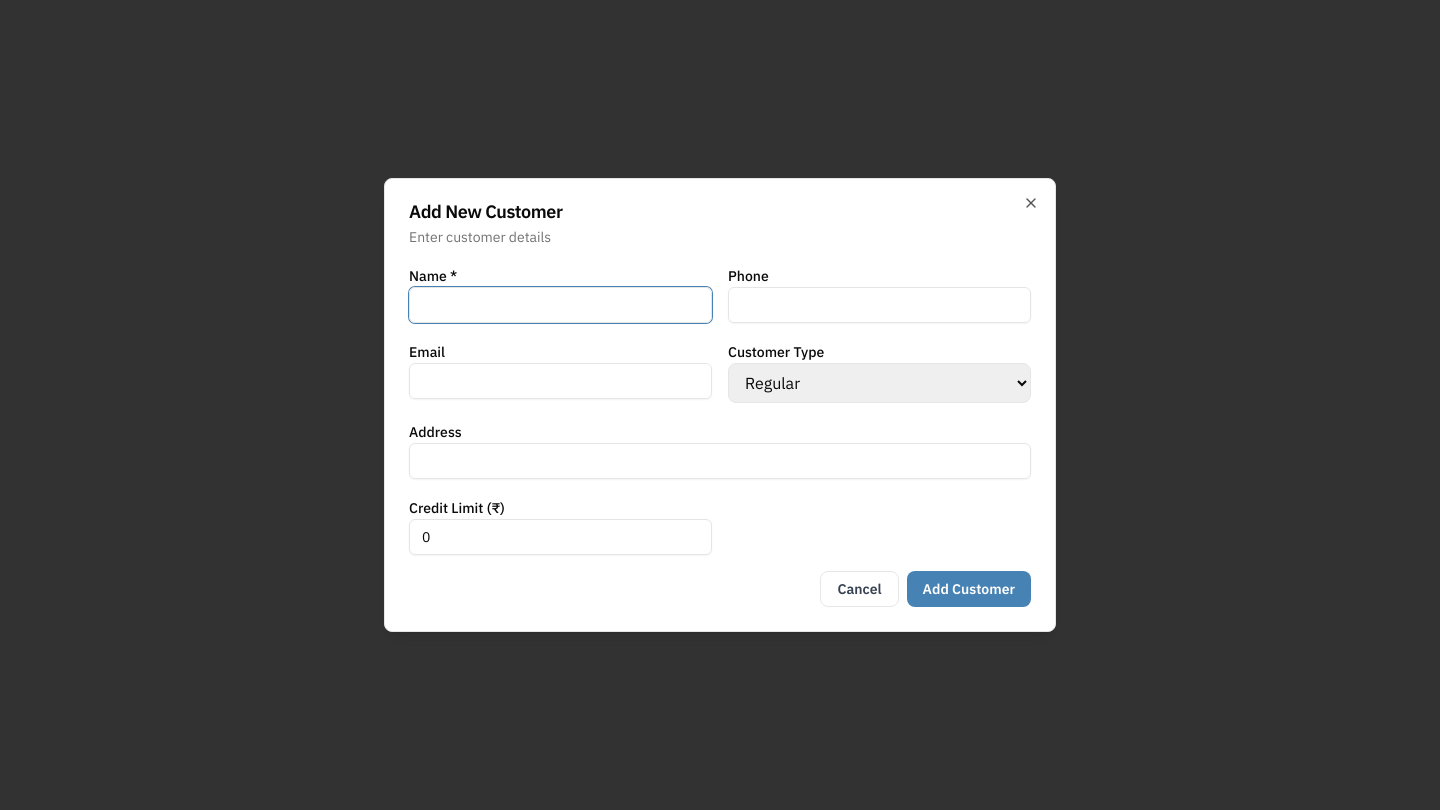
Test: CustomerFormDialog › shows GSTIN field for wholesale customer type
This screenshot has width=1440, height=810.
Select "Wholesale" in the dropdown at x=880, y=383, box 728,363 -> 1031,403
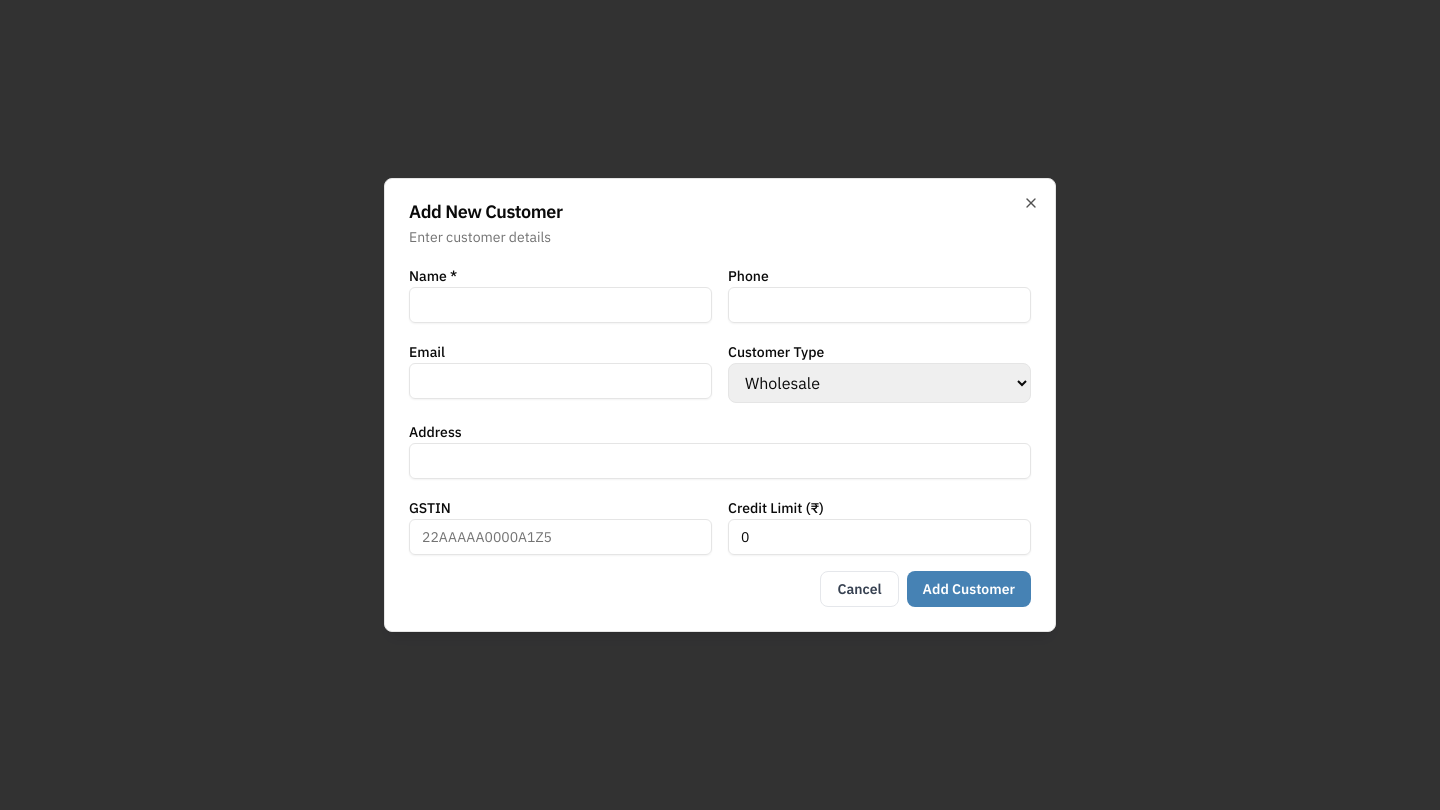
Now the field with placeholder "22AAAAA0000A1Z5" is shown, box 409,519 -> 712,555
